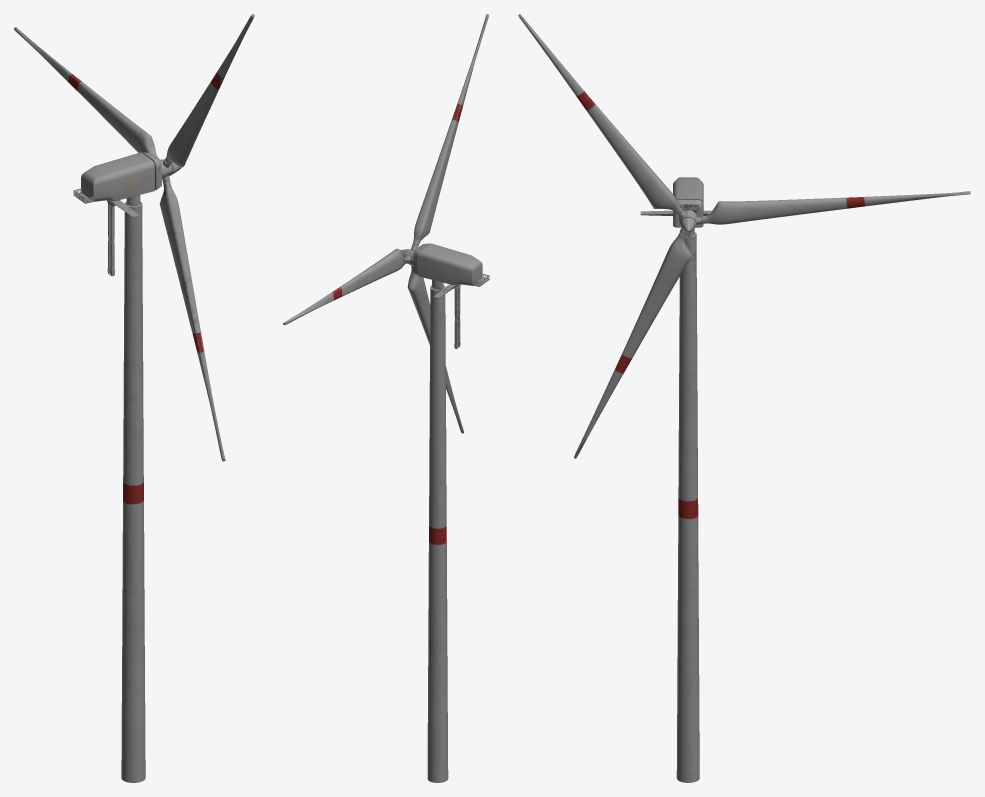
The model's file is wind_turbine.glb.
3 views of the same model, side by side, from view 1: azimuth 30°, elevation 25°; view 2: azimuth 150°, elevation 25°; view 3: azimuth 270°, elevation 25° (orthographic). The views are drawn at different scales.
Visible parts, largest first — view 1: body, propeller, hull, hull piece, red; view 2: body, propeller, hull, hull piece; view 3: body, propeller, hull.
Boxes of the visible parts, bbox=[...] form: body: bbox=[121, 195, 145, 782]; propeller: bbox=[14, 14, 254, 461]; hull: bbox=[81, 152, 161, 201]; hull piece: bbox=[107, 200, 139, 276]; red: bbox=[68, 72, 223, 352]; body: bbox=[427, 280, 448, 782]; propeller: bbox=[283, 14, 488, 433]; hull: bbox=[413, 243, 482, 285]; hull piece: bbox=[433, 284, 460, 348]; body: bbox=[676, 229, 699, 782]; propeller: bbox=[518, 14, 970, 458]; hull: bbox=[673, 177, 703, 227].
Bounding box in the file's own units: 13.75 × 103 × 54.06.
Materials: 2 (2 with a texture image).
